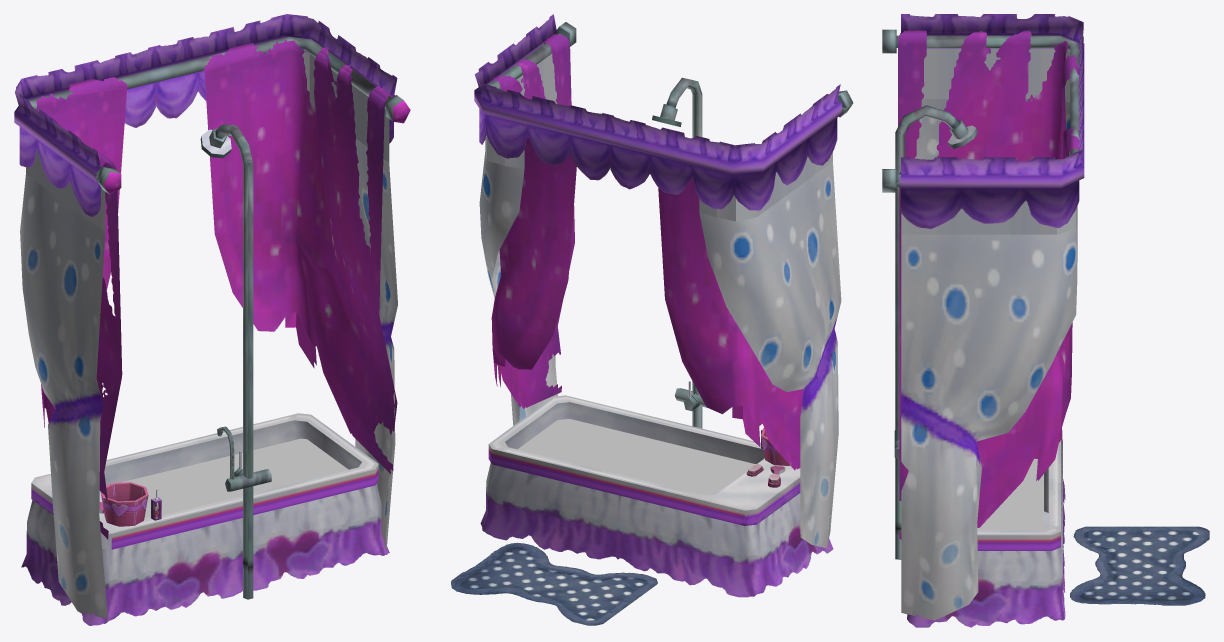
Rendered from furni_0200022_01.FBX.
3 renders of one model, left to right at view 1: azimuth 30°, elevation 25°; view 2: azimuth 150°, elevation 25°; view 3: azimuth 270°, elevation 25°, orthographic. The views are drawn at different scales.
Visible parts, largest first — view 1: furni_0200022_01; view 2: furni_0200022_01; view 3: furni_0200022_01.
Part boxes in pixels (x1,y1,x2,y2): furni_0200022_01: [14, 14, 410, 625]; furni_0200022_01: [451, 14, 853, 625]; furni_0200022_01: [882, 14, 1209, 627].
Bounding box in the file's own units: 163 × 233 × 147.
